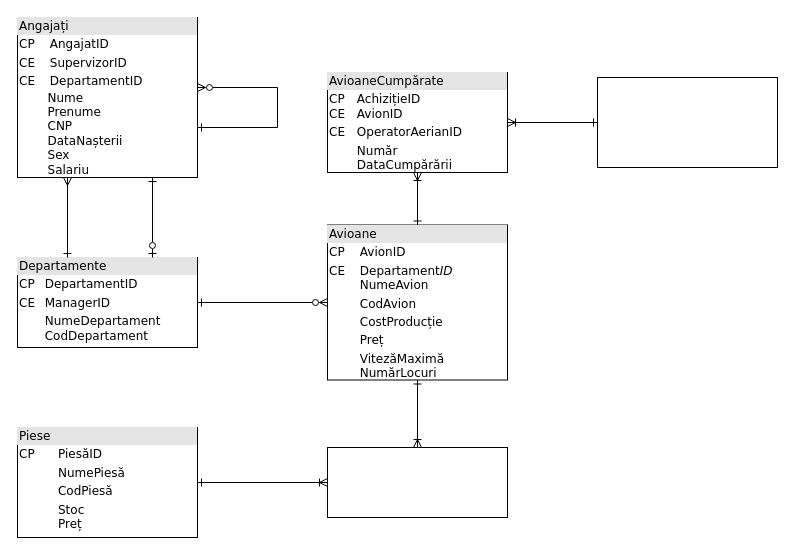
Image size: 795x555. Some labels were removed from this diagram. The shapes that lost their labels are listed below. From the top down, each one's centre as x and y in pixels, then its label:
At pixel 687 122: "OperatorAerian CP OperatorAerianID NumeOperatorAerian CodOperatorAerian Regiune".
At pixel 417 482: "PieseAvioane CP, CE AvionID CP, CE PiesăID NumărPieseNecesare".
